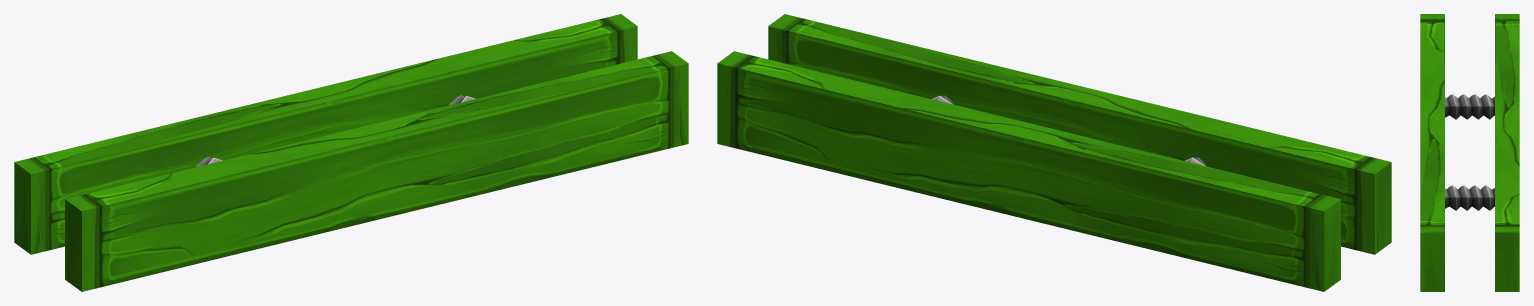
File: fence_green_04.fbx
The picture shows the model from 3 angles, left to right: view 1: azimuth 30°, elevation 25°; view 2: azimuth 150°, elevation 25°; view 3: azimuth 270°, elevation 25°; orthographic projection. The views are drawn at different scales.
Visible parts, largest first — view 1: front_wall_7, back_wall_1; view 2: back_wall_1, front_wall_7; view 3: back_wall_1, front_wall_7, spring_7, spring_10.
Part boxes in pixels (<box>): front_wall_7: <box>65,51,688,291</box>; back_wall_1: <box>14,14,637,254</box>; back_wall_1: <box>717,51,1340,291</box>; front_wall_7: <box>768,14,1391,254</box>; back_wall_1: <box>1495,14,1519,291</box>; front_wall_7: <box>1420,14,1444,291</box>; spring_7: <box>1445,185,1494,210</box>; spring_10: <box>1445,94,1494,119</box>.
Bounding box in the file's own units: 315 × 40 × 60.64.
